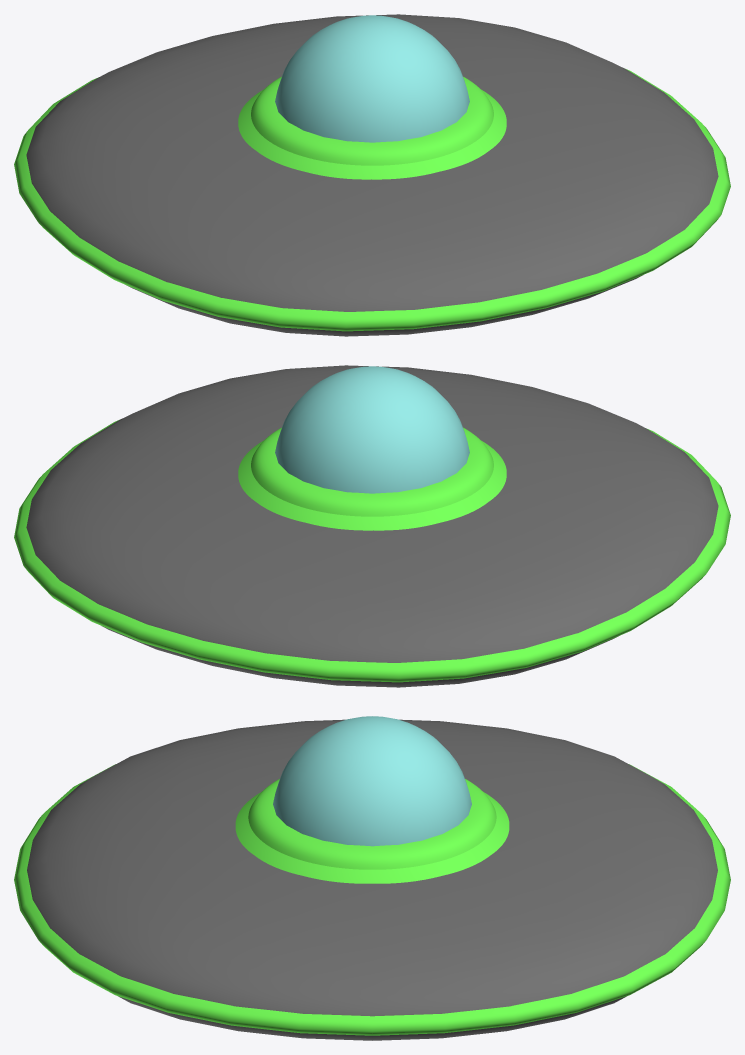
File: UFO.fbx
The picture shows the model from 3 angles, top to bottom: view 1: azimuth 30°, elevation 25°; view 2: azimuth 150°, elevation 25°; view 3: azimuth 270°, elevation 25°; orthographic projection. The views are drawn at different scales.
Parts seen in each view (by area): view 1: Metalic part, Green part, Glass Sphere; view 2: Metalic part, Green part, Glass Sphere; view 3: Metalic part, Green part, Glass Sphere.
Part boxes in pixels (x1,y1,x2,y2): Metalic part: (26,14,718,336); Green part: (14,69,730,331); Glass Sphere: (275,15,469,142); Metalic part: (26,365,718,687); Green part: (14,420,730,682); Glass Sphere: (275,366,469,493); Metalic part: (27,719,717,1040); Green part: (14,764,730,1035); Glass Sphere: (273,716,471,846).
Size of the model in its own units: 571 by 215 by 571.
